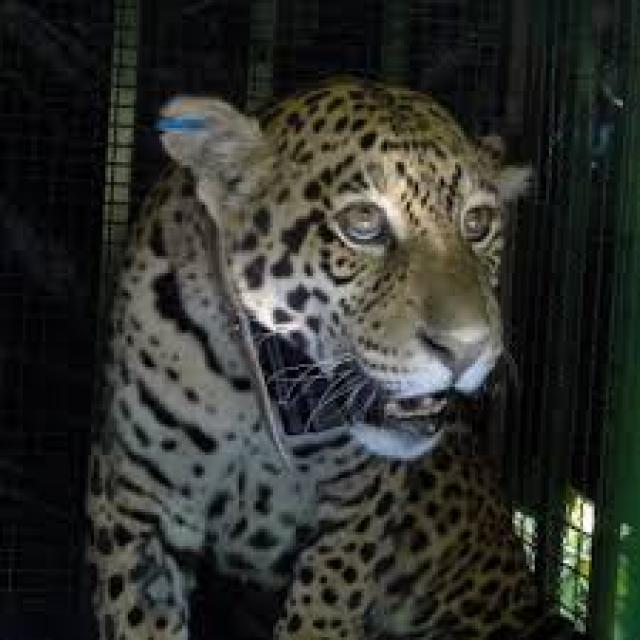Jaguar: (77, 77, 552, 637)
